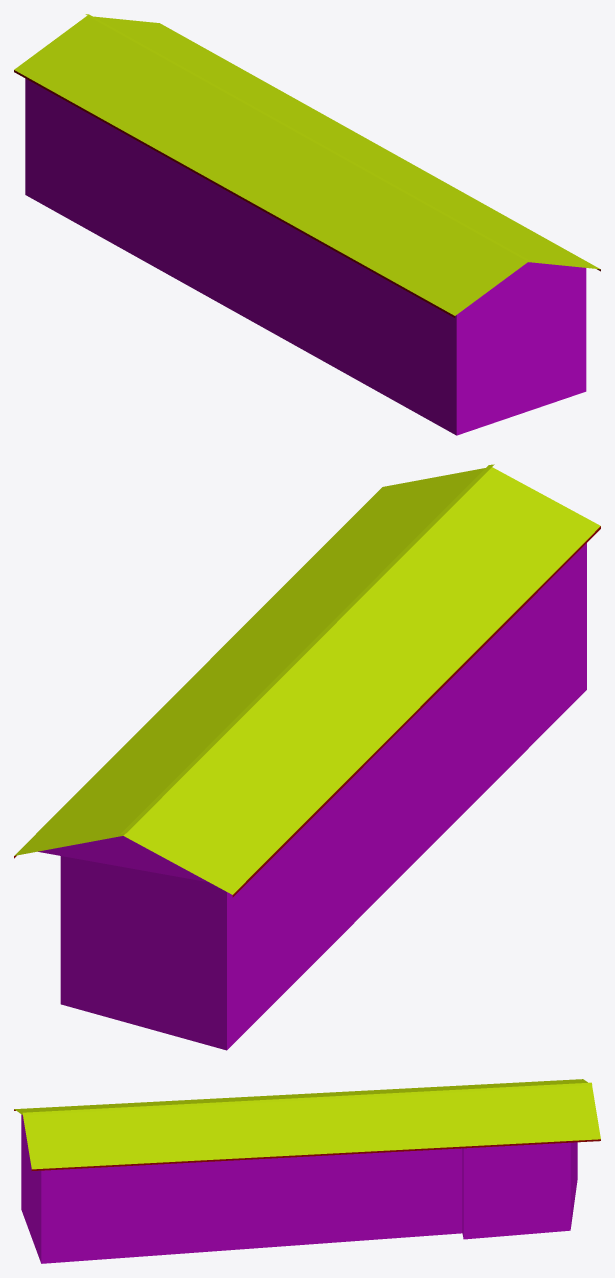
The model's file is scl_4.glb.
3 views of the same model, one above another, from view 1: azimuth 30°, elevation 25°; view 2: azimuth 150°, elevation 25°; view 3: azimuth 270°, elevation 25° (orthographic). The views are drawn at different scales.
Visible parts, largest first — view 1: scl_4; view 2: scl_4; view 3: scl_4.
Part boxes in pixels (<box>): scl_4: <box>14,14,600,435</box>; scl_4: <box>14,464,600,1050</box>; scl_4: <box>14,1079,600,1263</box>.
Size of the model in its own units: 13.28 by 8.47 by 36.48.
